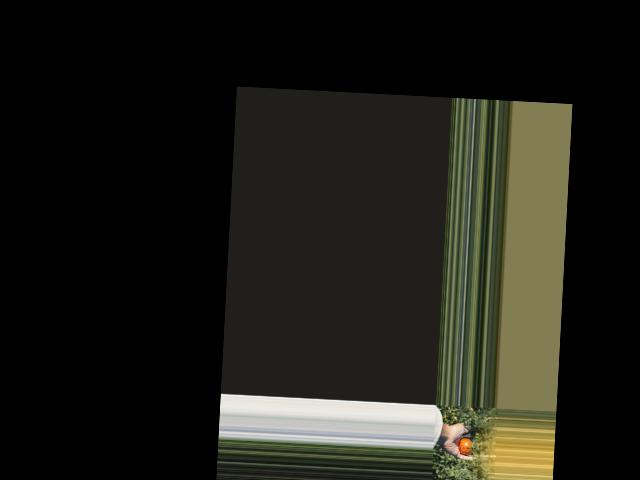tomato: (458, 438, 473, 455)
